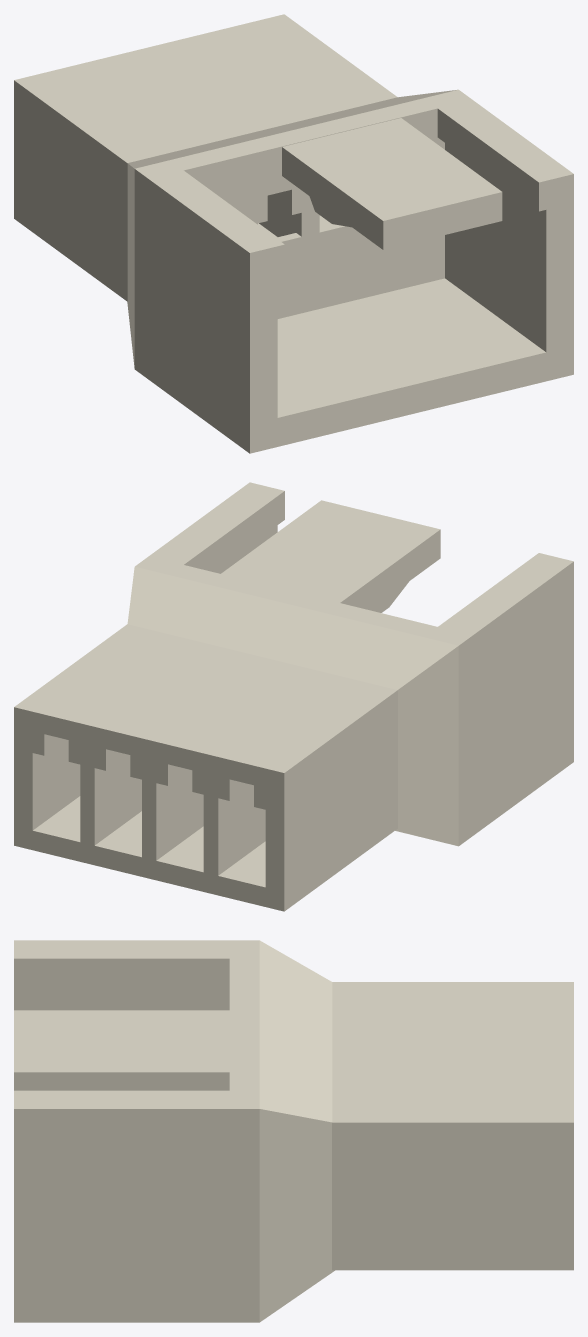
Rendered from fan-header.glb.
3 renders of one model, top to bottom at view 1: azimuth 30°, elevation 25°; view 2: azimuth 150°, elevation 25°; view 3: azimuth 270°, elevation 25°, orthographic. The views are drawn at different scales.
Bounding box in the file's own units: 13.32 × 7.88 × 18.7.
